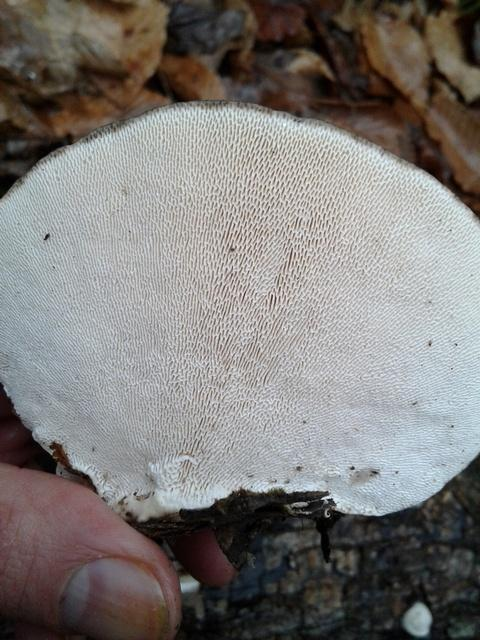Non-edible Mushroom: (0, 97, 479, 579)
